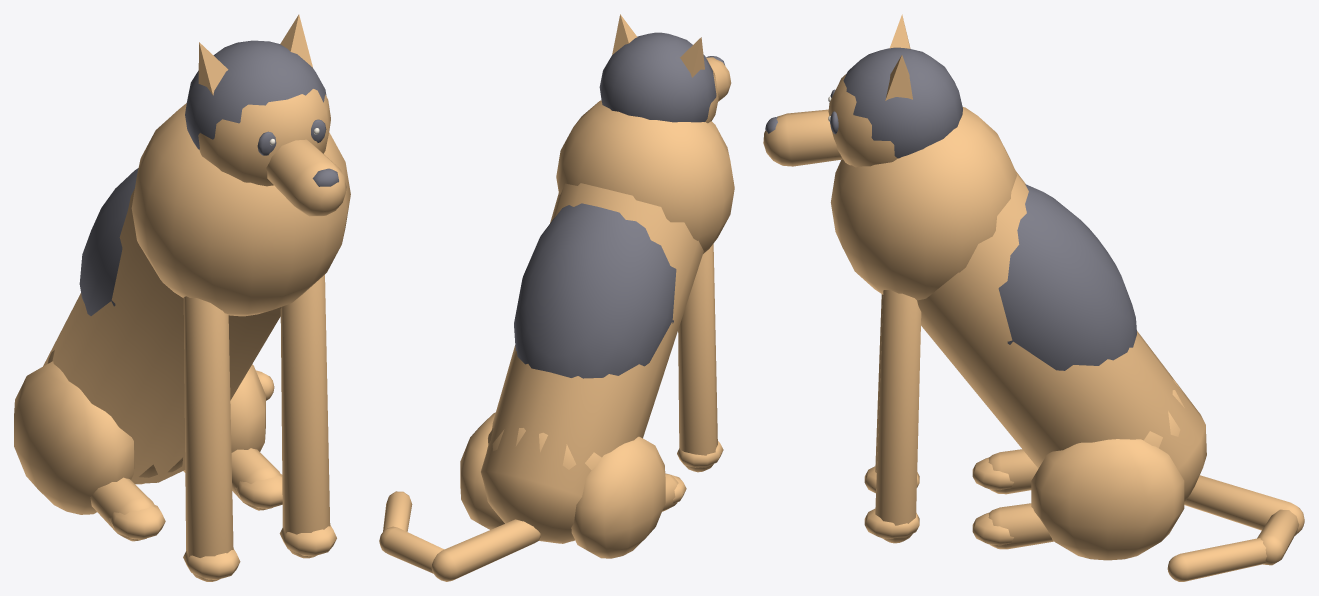
The model's file is dog.glb.
3 views of the same model, side by side, from view 1: azimuth 30°, elevation 25°; view 2: azimuth 150°, elevation 25°; view 3: azimuth 270°, elevation 25° (orthographic). The views are drawn at different scales.
Visible parts, largest first — view 1: dog-shepherd-sit; view 2: dog-shepherd-sit; view 3: dog-shepherd-sit.
Boxes of the visible parts, x1,y1,x2,y2 form: dog-shepherd-sit: (14, 14, 350, 581); dog-shepherd-sit: (379, 14, 734, 581); dog-shepherd-sit: (763, 14, 1304, 581).
Bounding box in the file's own units: 0.4395 × 0.8133 × 0.8074.
